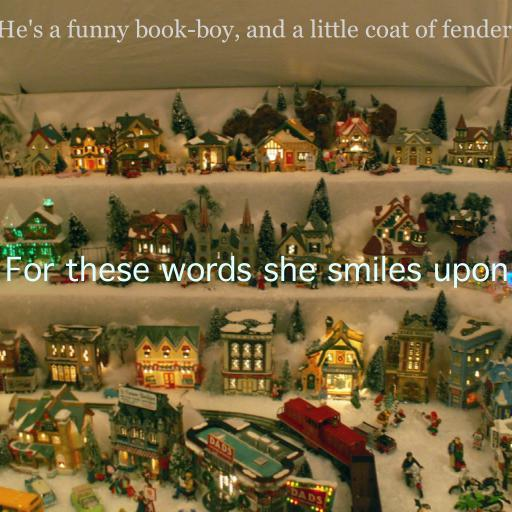Geneva: (5, 255, 509, 288)
Georgia: (0, 19, 512, 43)
